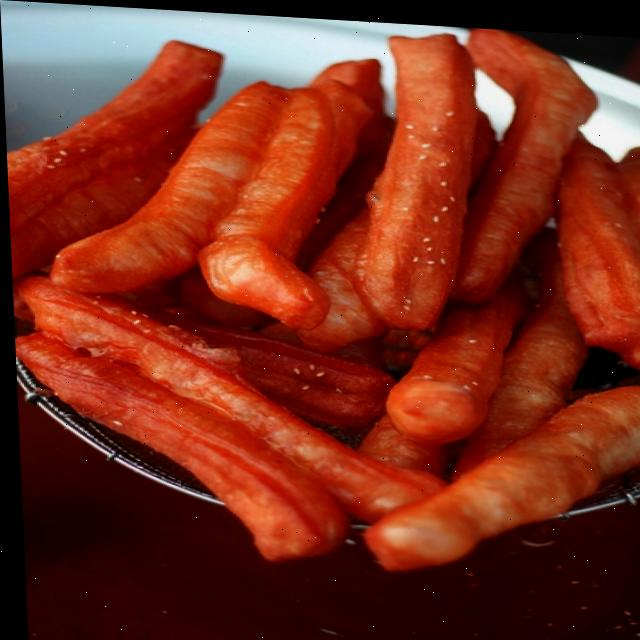炸货点心: (0, 0, 640, 614)
